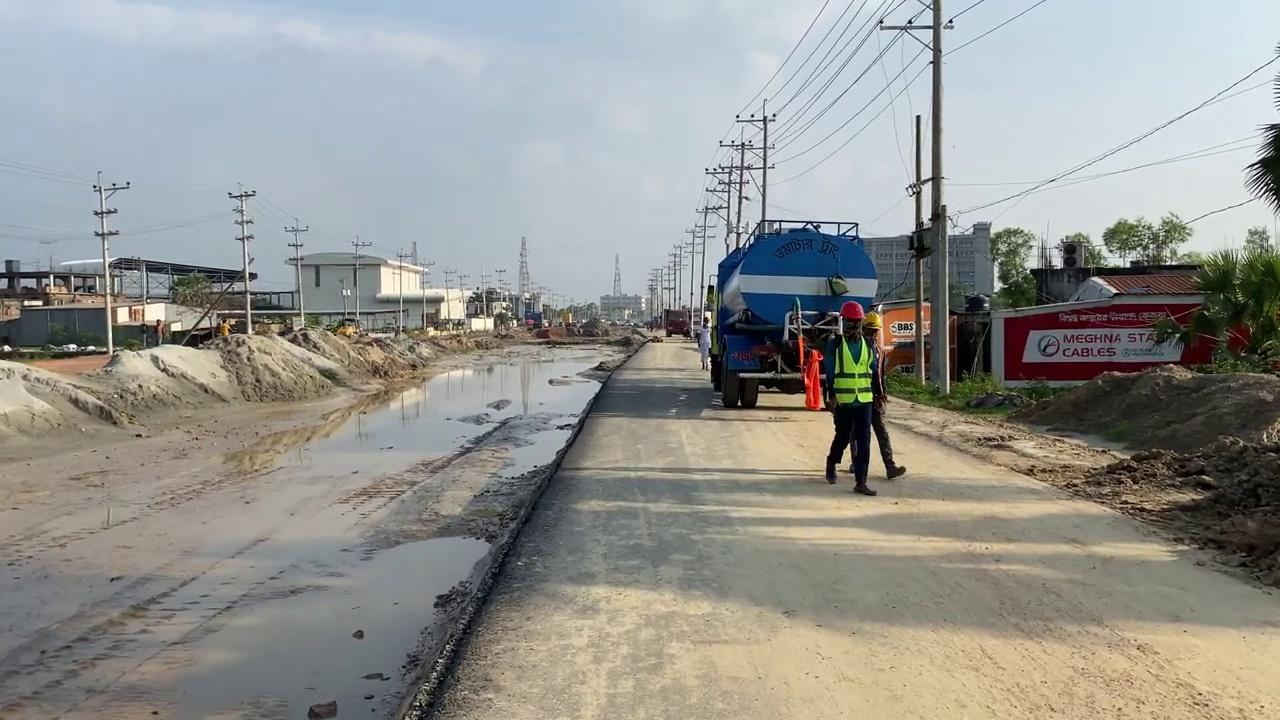Curb: (393, 329, 657, 717)
Obstacle: (708, 218, 879, 408)
Pole: (928, 1, 949, 395), (911, 114, 926, 384)
Rickshaw: (409, 332, 1278, 718)
Sidewalk: (1, 333, 639, 718)
Stuck-water: (802, 348, 825, 411)
Traffic-sign: (986, 225, 1037, 308)
Tree: (327, 287, 365, 338), (663, 308, 692, 338), (330, 317, 363, 338), (577, 317, 609, 337)
